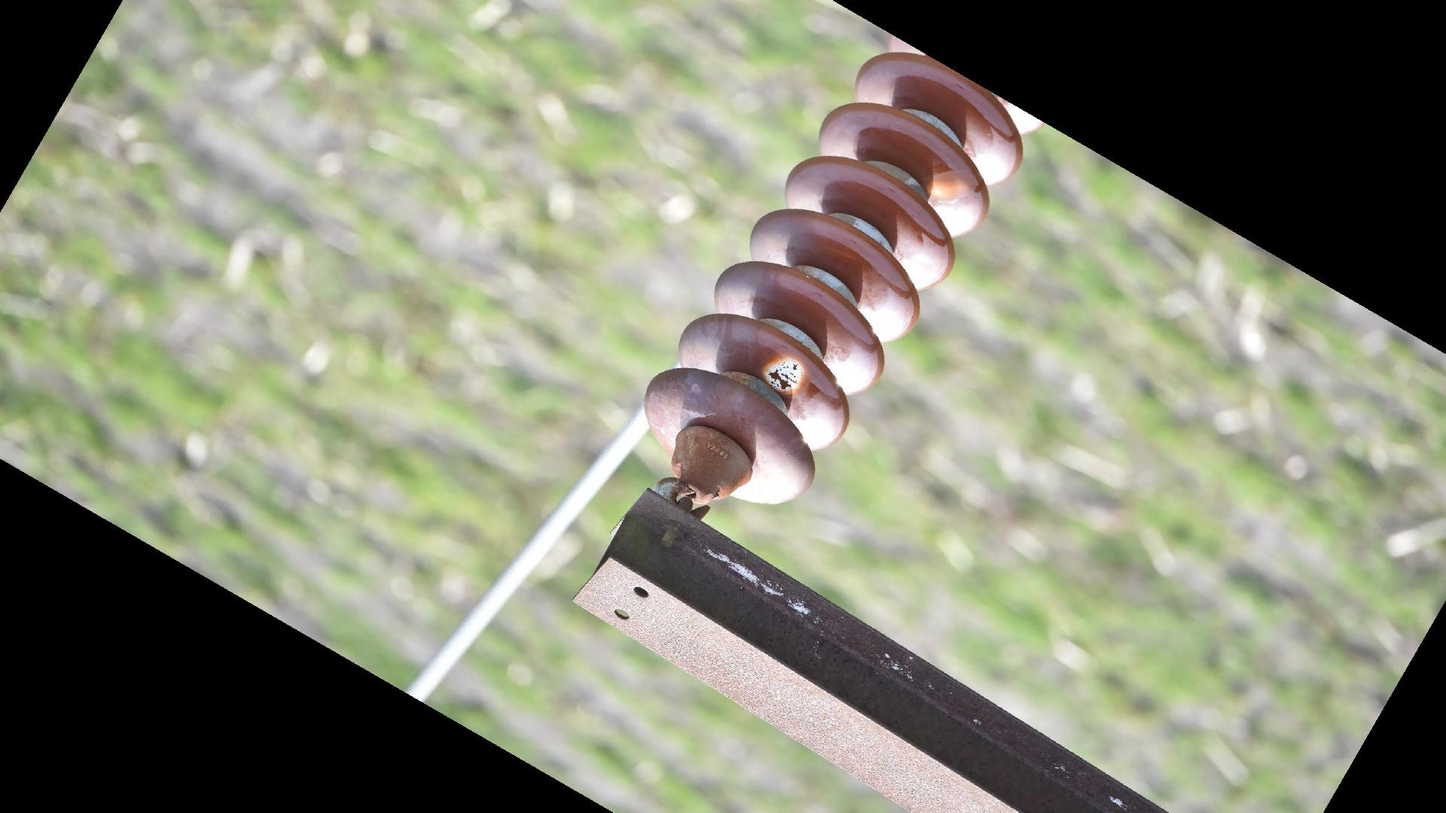insulator: (638, 29, 1049, 512)
insulator_flashover: (761, 354, 810, 398), (925, 175, 974, 203)
